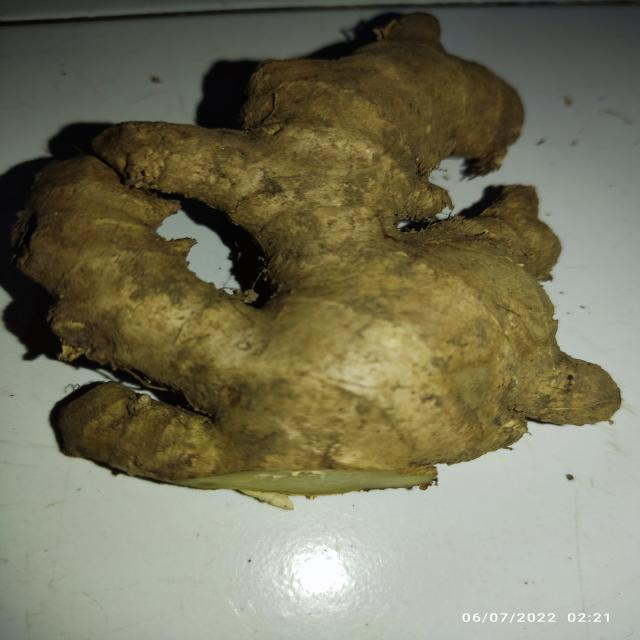ginger: (11, 14, 628, 497)
